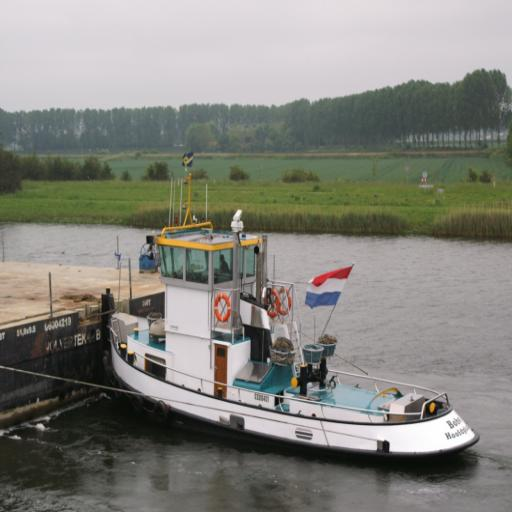tugboat: (96, 152, 486, 473)
